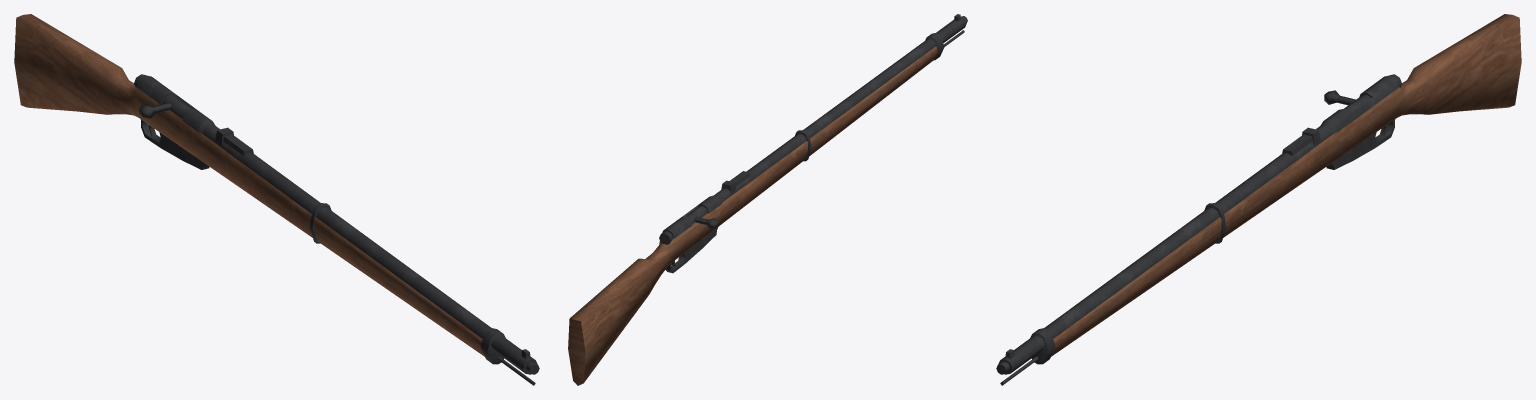
The model's file is 1211委员会1888.FBX.
3 views of the same model, side by side, from view 1: azimuth 30°, elevation 25°; view 2: azimuth 150°, elevation 25°; view 3: azimuth 330°, elevation 25° (orthographic). The views are drawn at different scales.
Visible parts, largest first — view 1: 1211_Commossion1888; view 2: 1211_Commossion1888; view 3: 1211_Commossion1888.
Part boxes in pixels (left/top/right/bottom): 1211_Commossion1888: left=14, top=14, right=539, bottom=385; 1211_Commossion1888: left=568, top=14, right=967, bottom=385; 1211_Commossion1888: left=996, top=14, right=1521, bottom=385.
Bounding box in the file's own units: 6.25 × 15.92 × 121.
1 material, 1 textured.
